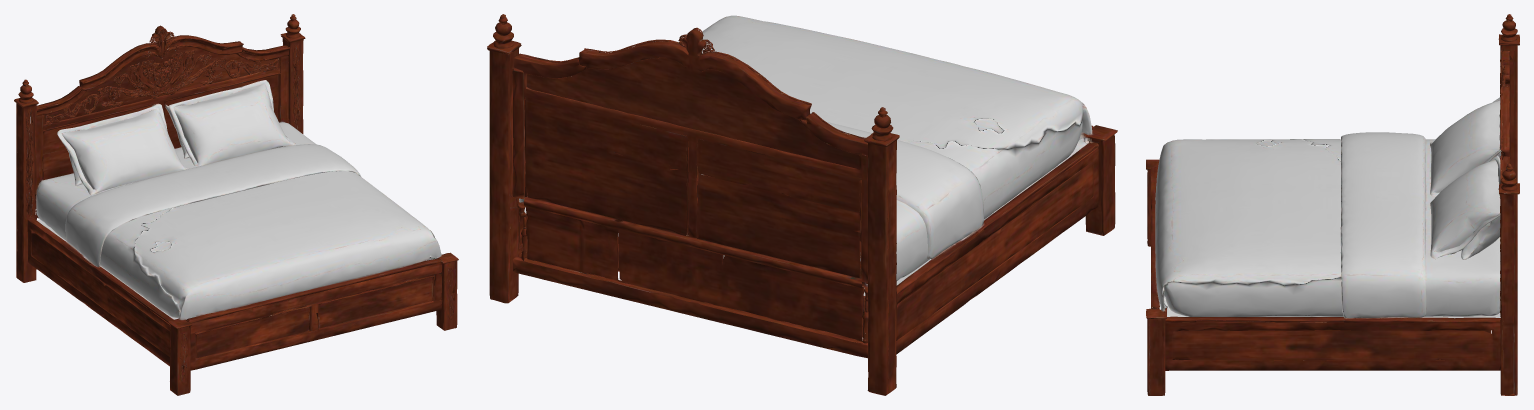
The model's file is king-bed.glb.
3 views of the same model, side by side, from view 1: azimuth 30°, elevation 25°; view 2: azimuth 150°, elevation 25°; view 3: azimuth 270°, elevation 25° (orthographic). The views are drawn at different scales.
Visible parts, largest first — view 1: geometry_0; view 2: geometry_0; view 3: geometry_0.
Part boxes in pixels (<box>): geometry_0: <box>14,14,458,395</box>; geometry_0: <box>487,14,1117,395</box>; geometry_0: <box>1146,14,1519,395</box>.
Bounding box in the file's own units: 2.05 × 1.53 × 2.05.
1 material, 1 textured.
